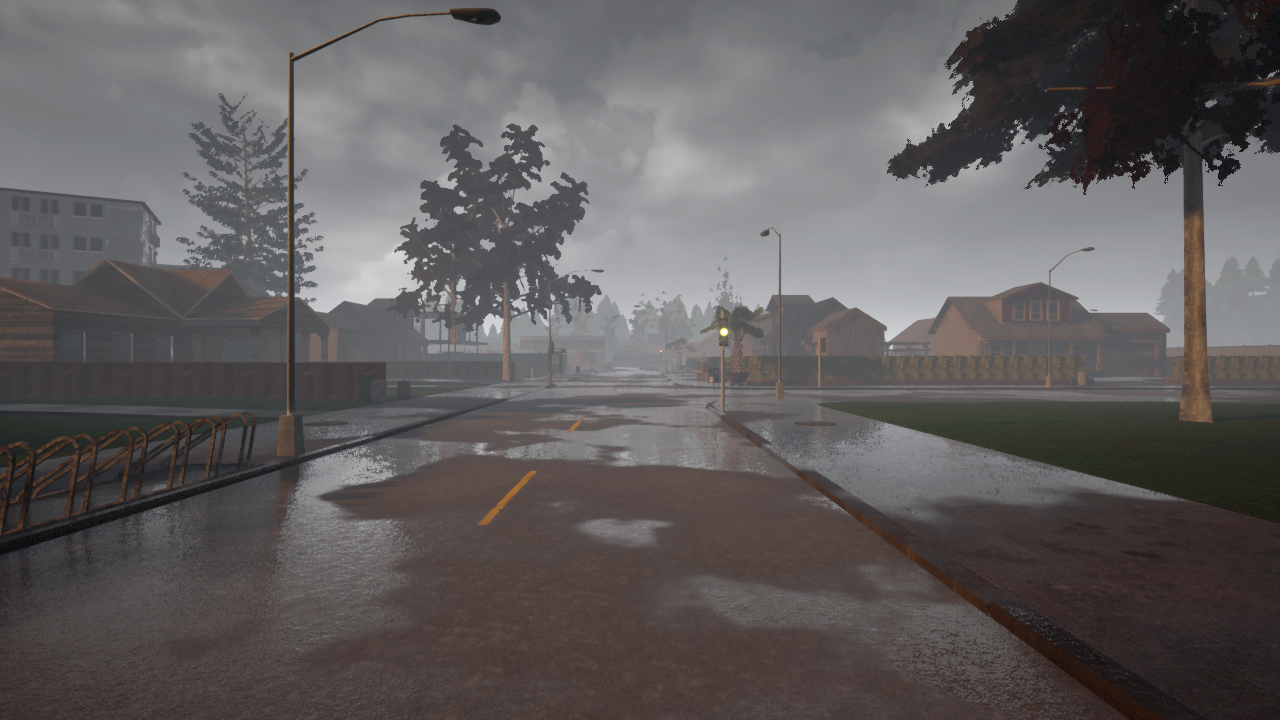yellow: (717, 317, 730, 348)
